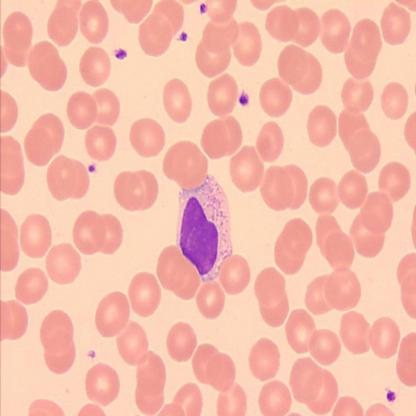Atypical lymphocyte: (177, 171, 233, 283)
